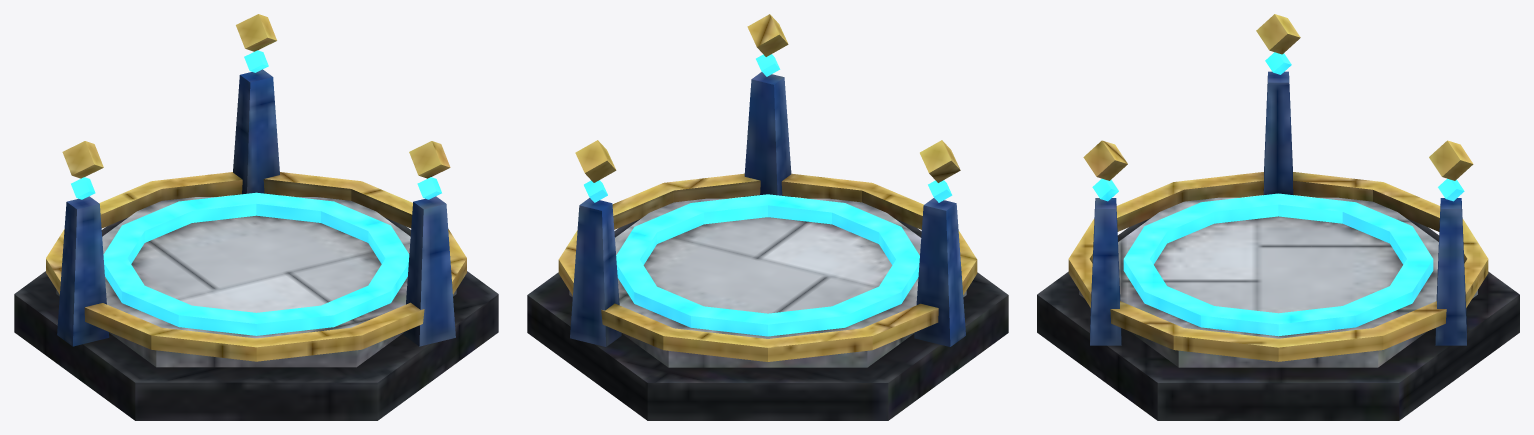
File: u_arcbase3_w.glb
The picture shows the model from 3 angles, left to right: view 1: azimuth 30°, elevation 25°; view 2: azimuth 150°, elevation 25°; view 3: azimuth 270°, elevation 25°; orthographic projection.
Visible parts, largest first — view 1: u_arcbase3_w; view 2: u_arcbase3_w; view 3: u_arcbase3_w.
Part boxes in pixels (left/top/right/bottom): u_arcbase3_w: left=14, top=14, right=498, bottom=420; u_arcbase3_w: left=527, top=14, right=1008, bottom=420; u_arcbase3_w: left=1037, top=14, right=1519, bottom=420.
Size of the model in its own units: 0.9471 by 0.569 by 1.06.
Materials: 1 (1 with a texture image).
